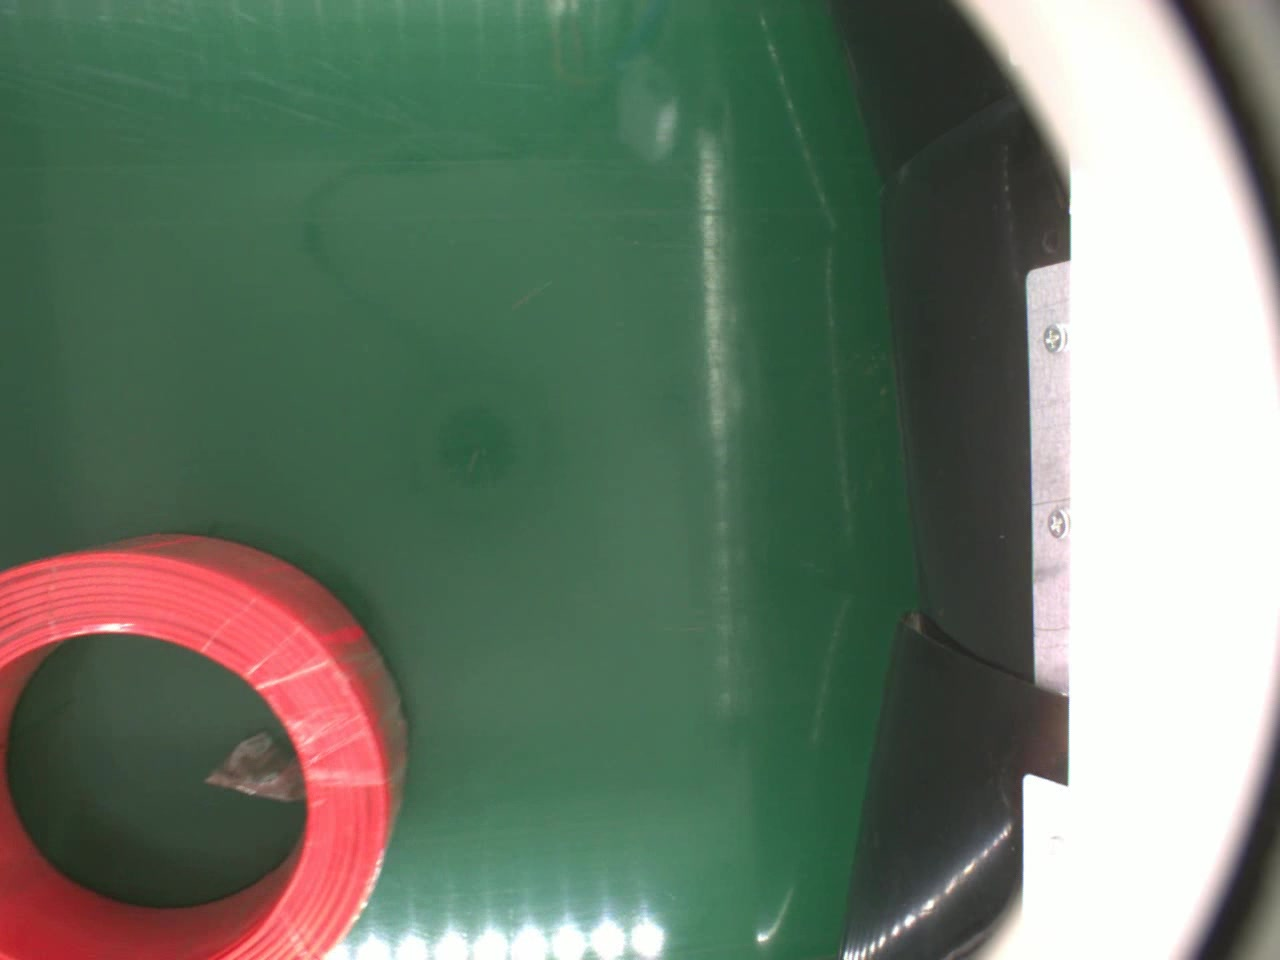red: (0, 534, 411, 960)
